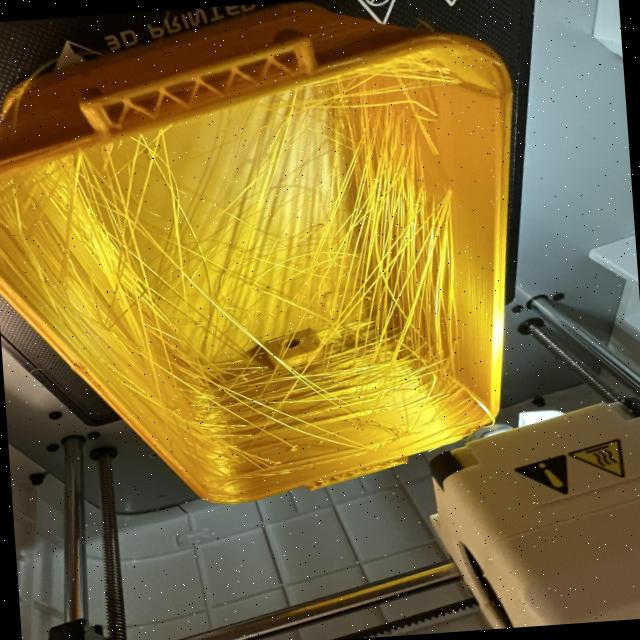stringing: (132, 87, 486, 464)
